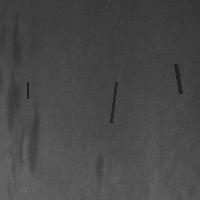inclusion: (2, 9, 42, 188), (91, 150, 115, 194), (109, 80, 118, 124), (173, 62, 182, 95), (25, 80, 29, 100)
